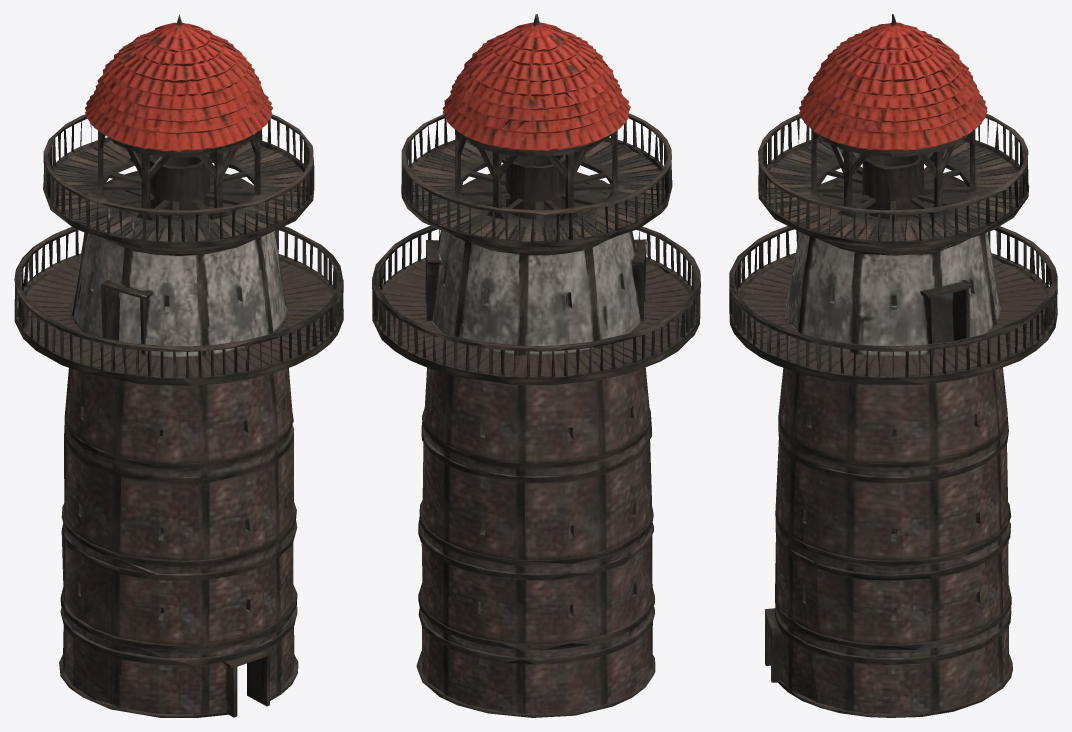
Rendered from lighthouse.glb.
3 renders of one model, left to right at view 1: azimuth 30°, elevation 25°; view 2: azimuth 150°, elevation 25°; view 3: azimuth 270°, elevation 25°, orthographic.
Parts seen in each view (by area): view 1: lighthouse; view 2: lighthouse; view 3: lighthouse.
Part boxes in pixels (bbox=[...]): lighthouse: bbox=[14, 14, 343, 717]; lighthouse: bbox=[372, 14, 700, 717]; lighthouse: bbox=[729, 14, 1057, 717].
Size of the model in its own units: 0.8665 by 1.91 by 0.8651.
1 material, 1 textured.
